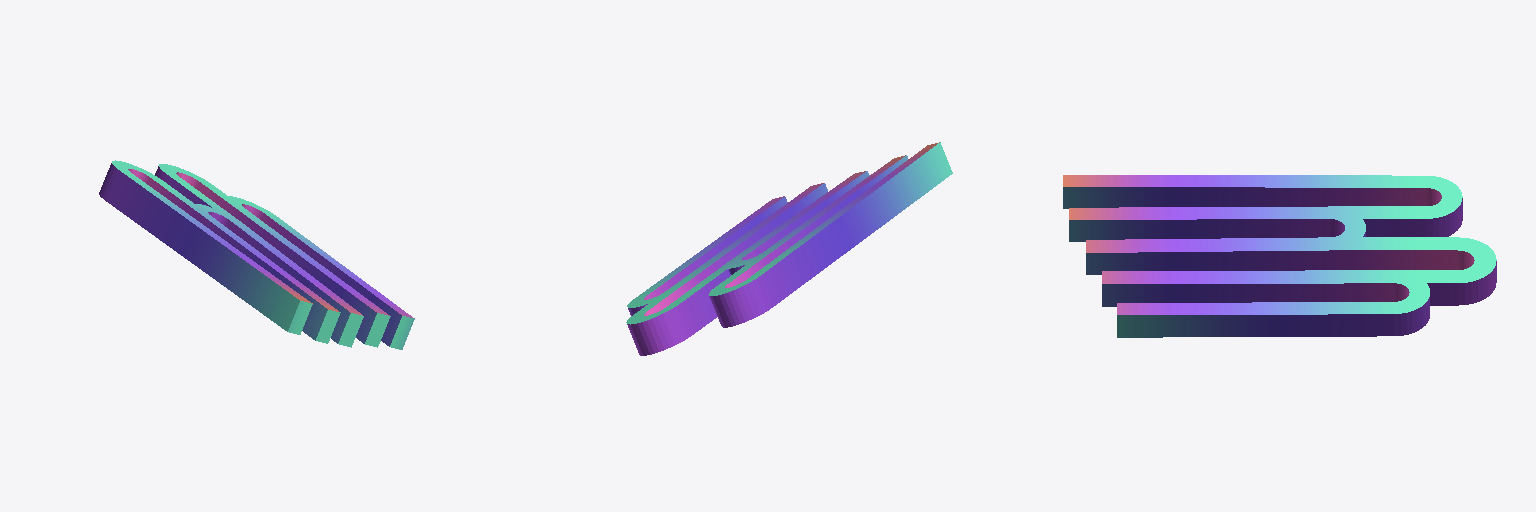
The picture shows the model from 3 angles: view 1: azimuth 30°, elevation 25°; view 2: azimuth 150°, elevation 25°; view 3: azimuth 270°, elevation 25°; orthographic projection.
Visible parts, largest first — view 1: Design_A; view 2: Design_A; view 3: Design_A.
Part boxes in pixels (x1,y1,x2,y2): Design_A: (99, 160, 414, 349); Design_A: (626, 142, 952, 355); Design_A: (1063, 175, 1496, 337).
Size of the model in its own units: 0.4129 by 0.2562 by 1.
1 materials, 1 textured.